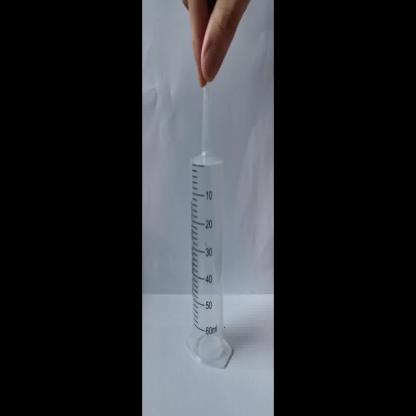dry: (183, 92, 236, 374)
